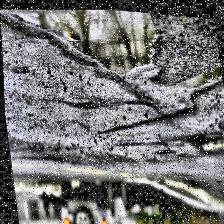pothole: (10, 2, 168, 90), (172, 50, 224, 104), (184, 120, 224, 158)
